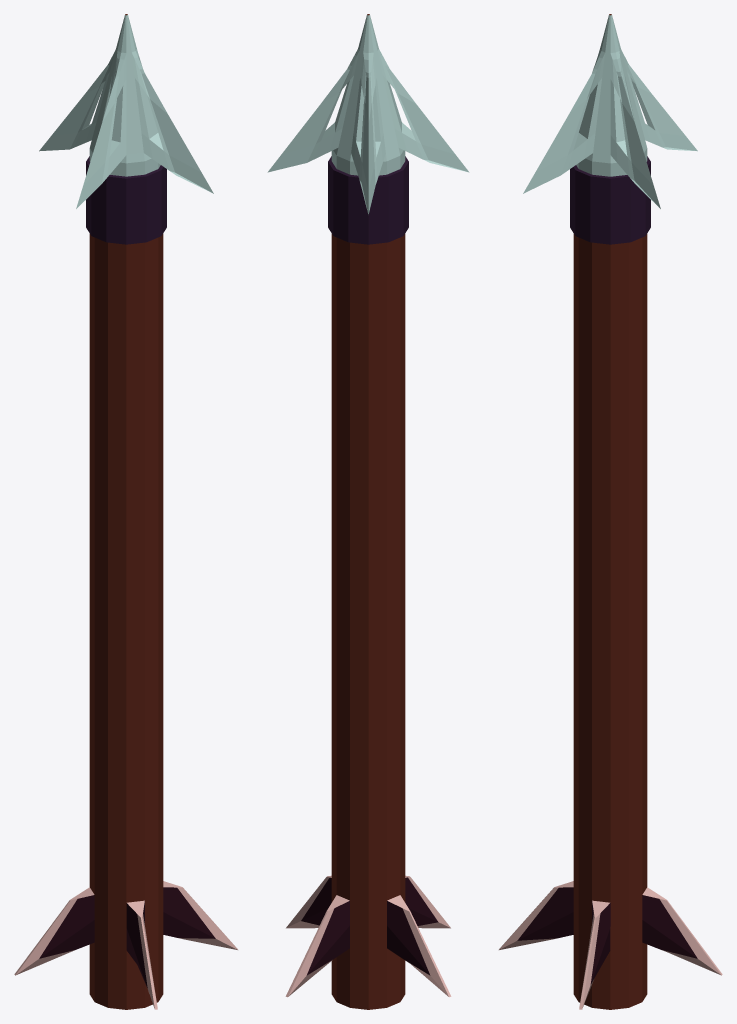
File: Arrow.fbx
3 renders of one model, left to right at view 1: azimuth 30°, elevation 25°; view 2: azimuth 150°, elevation 25°; view 3: azimuth 270°, elevation 25°, orthographic.
Visible parts, largest first — view 1: Cylinder; view 2: Cylinder; view 3: Cylinder.
Part boxes in pixels (x1=…): Cylinder: x1=14, y1=14, x2=237, y2=1009; Cylinder: x1=267, y1=14, x2=469, y2=1009; Cylinder: x1=499, y1=14, x2=722, y2=1009.
Bounding box in the file's own units: 305 × 1470 × 305.
